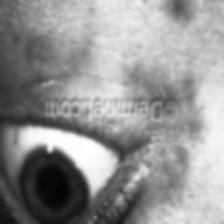Non-Cancerous Skin Condition: (26, 32, 66, 99), (167, 0, 191, 17)
